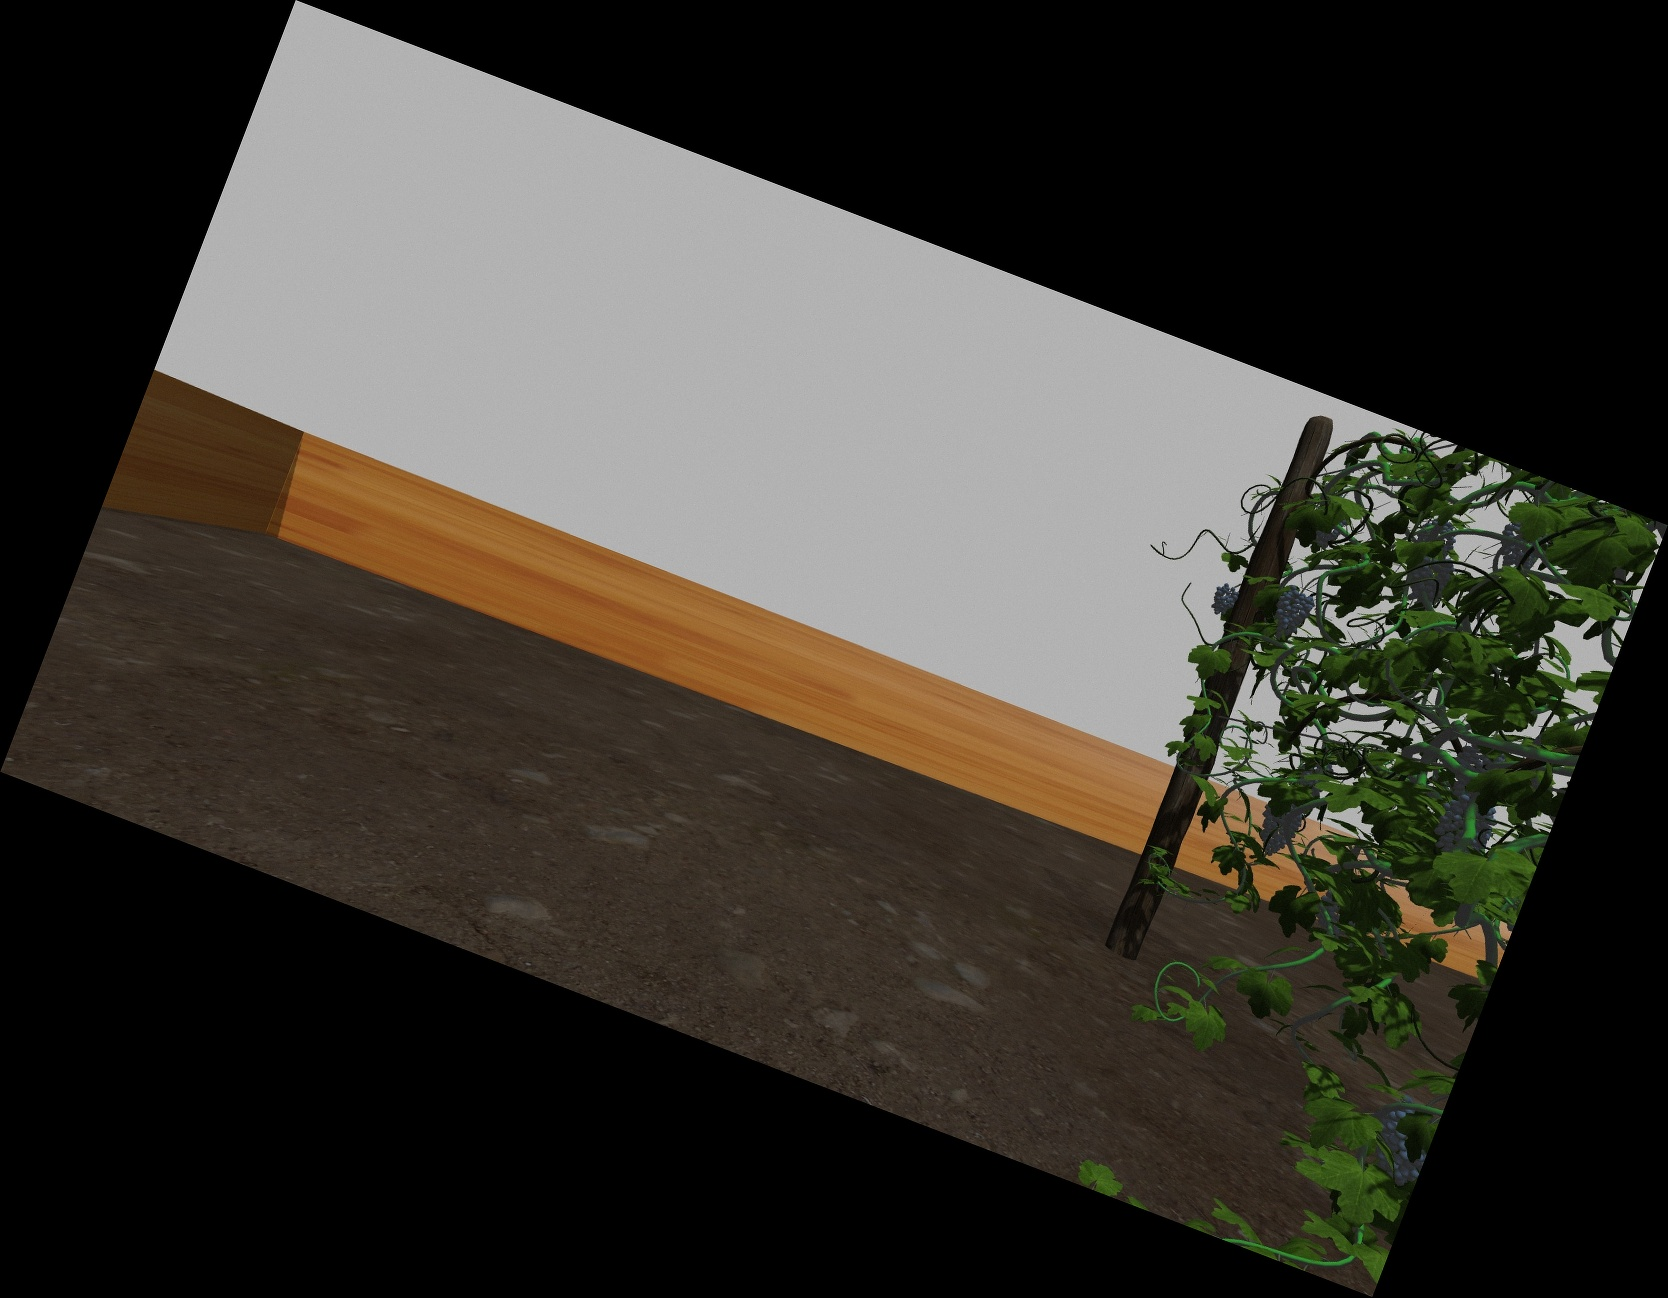grape: (1376, 1100, 1426, 1184), (1439, 800, 1492, 855), (1258, 803, 1298, 855), (1273, 587, 1308, 642), (1499, 525, 1539, 568), (1413, 558, 1450, 600), (1212, 583, 1237, 619)
